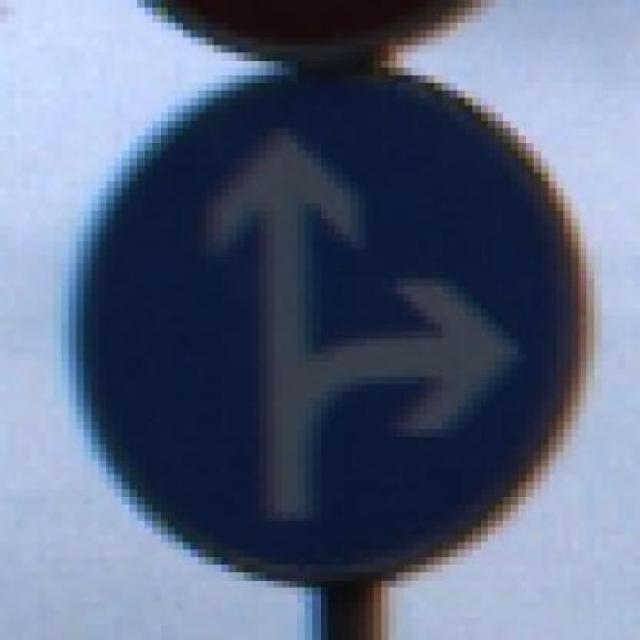Go Straight or Turn Right: (45, 60, 618, 603)
